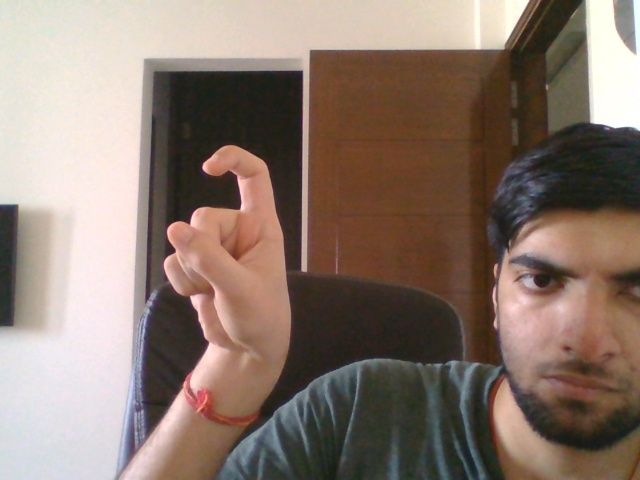LetterZ: (160, 141, 297, 362)
